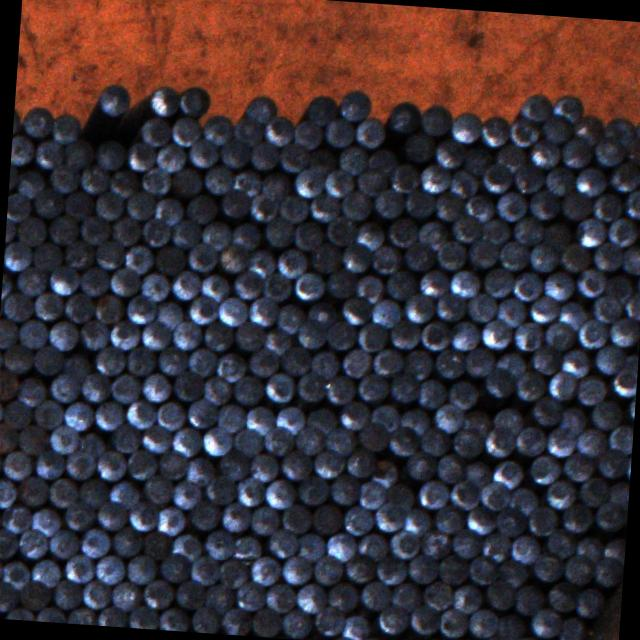tool: (534, 208, 588, 256), (418, 100, 452, 136), (202, 318, 238, 352), (342, 444, 377, 478), (337, 88, 372, 122), (260, 114, 296, 147), (575, 586, 609, 620), (490, 456, 524, 490), (386, 98, 420, 132), (203, 579, 237, 613), (202, 526, 236, 560), (185, 192, 219, 226), (107, 476, 142, 509), (46, 317, 81, 350), (97, 81, 130, 116), (512, 580, 544, 616), (258, 167, 294, 199), (198, 270, 234, 302), (388, 526, 421, 560), (526, 502, 559, 536), (215, 448, 248, 482), (214, 349, 247, 383), (590, 398, 624, 431), (110, 524, 144, 557), (94, 448, 128, 481), (139, 422, 173, 455), (168, 267, 202, 300), (21, 104, 54, 138), (147, 82, 180, 116), (262, 476, 297, 508), (369, 242, 404, 274), (386, 162, 421, 194), (573, 164, 608, 196), (560, 344, 593, 377), (480, 316, 513, 349), (262, 214, 295, 247), (247, 190, 280, 223), (200, 112, 233, 145), (606, 214, 639, 247), (111, 578, 144, 611), (158, 550, 191, 583), (95, 499, 128, 532), (125, 446, 158, 479), (0, 397, 33, 430), (17, 373, 50, 406), (200, 372, 233, 405), (108, 317, 141, 350), (200, 218, 233, 251), (170, 165, 203, 198), (376, 552, 408, 586), (311, 502, 343, 536), (593, 500, 627, 532), (329, 472, 361, 506), (530, 394, 562, 428), (263, 371, 297, 403), (296, 370, 328, 404), (416, 376, 450, 408), (401, 347, 435, 379), (576, 316, 610, 348), (482, 264, 514, 298), (276, 246, 310, 278), (402, 240, 436, 272), (434, 238, 468, 270), (418, 218, 452, 250), (590, 190, 624, 222), (218, 136, 252, 168), (304, 92, 338, 124), (450, 110, 482, 144), (608, 314, 640, 348), (78, 526, 112, 558), (187, 498, 221, 530), (204, 474, 238, 506), (184, 454, 218, 486), (19, 422, 51, 456), (170, 424, 202, 458), (188, 396, 220, 430), (156, 344, 190, 376), (80, 263, 112, 297), (138, 268, 170, 302), (46, 214, 80, 246), (168, 217, 202, 249), (92, 138, 126, 170), (294, 474, 330, 504), (242, 93, 278, 123), (311, 604, 344, 636), (561, 500, 594, 532), (448, 478, 481, 510), (509, 484, 542, 516), (312, 446, 344, 479), (357, 420, 390, 452), (418, 424, 451, 456), (432, 401, 464, 434), (232, 372, 264, 405), (576, 372, 608, 405), (247, 345, 280, 377), (279, 344, 312, 376), (448, 266, 481, 298), (309, 240, 342, 272), (498, 238, 530, 271), (558, 240, 591, 272), (574, 215, 607, 247), (559, 188, 592, 220), (354, 115, 386, 148), (571, 112, 603, 145), (19, 578, 51, 611), (142, 576, 175, 608), (173, 578, 206, 610), (125, 552, 158, 584), (170, 530, 203, 562), (170, 476, 202, 509), (0, 447, 33, 479), (156, 447, 188, 480), (33, 397, 65, 430), (94, 398, 126, 431), (80, 369, 112, 402), (110, 371, 142, 404), (140, 371, 172, 404), (92, 344, 125, 376), (186, 240, 219, 272), (15, 214, 48, 246), (109, 214, 142, 246), (293, 582, 327, 613), (509, 533, 543, 564), (482, 366, 516, 397), (339, 189, 373, 220), (46, 476, 80, 507), (124, 398, 158, 429), (140, 215, 171, 249), (401, 130, 436, 160), (250, 604, 282, 636), (326, 580, 358, 612), (359, 578, 391, 610), (310, 554, 342, 586), (356, 530, 388, 562), (404, 449, 436, 481), (388, 424, 420, 456), (530, 343, 562, 375), (388, 318, 420, 350), (434, 290, 466, 322), (495, 296, 527, 328), (558, 298, 590, 330), (543, 268, 575, 300), (293, 219, 325, 251), (434, 136, 466, 168), (560, 136, 592, 168), (80, 578, 112, 610), (63, 552, 95, 584), (188, 554, 220, 586), (140, 528, 172, 560), (126, 498, 158, 530), (141, 472, 173, 504), (35, 448, 67, 480), (156, 398, 188, 430), (32, 344, 64, 376), (62, 348, 94, 380), (186, 346, 218, 378), (18, 317, 50, 349), (33, 290, 65, 322), (32, 240, 64, 272), (63, 238, 95, 270), (154, 243, 186, 275), (15, 166, 47, 198), (108, 166, 140, 198), (170, 114, 202, 146), (178, 84, 210, 116), (561, 554, 594, 585), (561, 451, 594, 482), (447, 319, 480, 350), (369, 296, 402, 327), (465, 291, 498, 322), (325, 215, 358, 246), (519, 91, 552, 122), (30, 506, 63, 537), (200, 424, 233, 455), (376, 604, 410, 634), (389, 580, 423, 610), (278, 554, 312, 584), (266, 526, 300, 556), (433, 504, 467, 534), (490, 406, 524, 436), (355, 372, 389, 402), (293, 270, 327, 300), (324, 268, 358, 298), (527, 138, 561, 168), (603, 114, 637, 144), (94, 292, 128, 322), (14, 266, 48, 296), (48, 264, 82, 294), (31, 188, 65, 218), (421, 579, 453, 610), (248, 554, 280, 585), (416, 477, 448, 508), (247, 451, 279, 482), (280, 448, 312, 479), (230, 426, 262, 457), (324, 424, 356, 455), (452, 426, 484, 457), (325, 319, 357, 350), (356, 321, 388, 352), (542, 319, 574, 350), (402, 292, 434, 323), (512, 270, 544, 301), (340, 240, 371, 272), (372, 186, 404, 217), (528, 188, 560, 219), (230, 165, 262, 196), (322, 116, 354, 147), (479, 114, 510, 146), (542, 111, 574, 142), (592, 292, 624, 323), (94, 553, 125, 585), (157, 502, 188, 534), (17, 474, 48, 506), (64, 399, 96, 430), (125, 344, 156, 376), (78, 318, 110, 349), (126, 292, 157, 324), (188, 293, 220, 324), (124, 242, 155, 274), (79, 213, 111, 244), (94, 189, 125, 221), (51, 112, 82, 144), (140, 115, 172, 146), (233, 580, 266, 610), (436, 553, 469, 583), (446, 378, 479, 408), (29, 558, 62, 588), (63, 500, 96, 530), (1, 342, 34, 372), (1, 291, 34, 321), (154, 142, 187, 172), (187, 136, 220, 166), (478, 217, 512, 246), (304, 406, 339, 434), (494, 348, 530, 375), (451, 582, 482, 613), (407, 551, 438, 582), (372, 500, 403, 531), (294, 424, 325, 455), (261, 323, 292, 354), (419, 319, 450, 350), (217, 295, 248, 326), (276, 301, 307, 332), (528, 241, 559, 272), (357, 166, 388, 197), (591, 240, 622, 271), (78, 477, 109, 508), (65, 448, 96, 479), (172, 319, 203, 350), (124, 140, 155, 171), (280, 608, 312, 638), (438, 606, 468, 638), (344, 552, 376, 582), (469, 552, 499, 584), (532, 551, 562, 583), (543, 526, 575, 556), (280, 502, 312, 532), (342, 504, 374, 534), (261, 426, 293, 456), (513, 424, 545, 454), (546, 424, 576, 456), (274, 404, 306, 434), (558, 403, 588, 435), (325, 372, 355, 404), (546, 370, 578, 400), (372, 346, 404, 376), (246, 296, 278, 326), (234, 268, 264, 300), (384, 268, 416, 298), (230, 220, 262, 250), (512, 216, 544, 246), (218, 186, 250, 216), (512, 162, 544, 192), (276, 142, 308, 172), (305, 146, 337, 176), (494, 142, 526, 172), (594, 134, 624, 166), (232, 116, 262, 148), (292, 117, 322, 149), (48, 528, 80, 558), (76, 426, 108, 456), (109, 422, 141, 452), (49, 372, 81, 402), (140, 318, 172, 348), (64, 292, 96, 322), (154, 298, 186, 328), (2, 240, 32, 272), (63, 190, 95, 220), (203, 162, 233, 194), (436, 450, 465, 483), (463, 192, 497, 220), (126, 602, 160, 630), (220, 606, 251, 636), (468, 607, 498, 638), (263, 582, 294, 612), (484, 579, 514, 610), (296, 530, 326, 561), (450, 527, 480, 558), (466, 503, 496, 534), (496, 506, 527, 536), (358, 478, 388, 509), (480, 480, 510, 511), (529, 454, 560, 484), (597, 446, 628, 476), (484, 426, 515, 456), (369, 401, 400, 431), (515, 370, 546, 400), (310, 350, 341, 380), (436, 346, 466, 377), (306, 298, 337, 328), (575, 266, 606, 296), (468, 237, 498, 268), (388, 216, 418, 247), (277, 192, 308, 222), (308, 192, 339, 222), (497, 190, 528, 220), (482, 162, 512, 193), (609, 160, 640, 190), (552, 92, 583, 122), (605, 270, 636, 300), (52, 578, 82, 609), (17, 528, 48, 558), (172, 369, 202, 400), (94, 240, 125, 270), (125, 189, 155, 220), (49, 162, 80, 192), (142, 163, 172, 194), (33, 138, 64, 168), (63, 138, 94, 168), (400, 405, 432, 434), (528, 294, 560, 323), (190, 605, 222, 634), (403, 188, 436, 216), (366, 145, 399, 173), (410, 603, 440, 633), (530, 607, 560, 637), (548, 580, 578, 610), (594, 556, 624, 586), (480, 532, 510, 562), (546, 478, 576, 508), (578, 476, 608, 506), (245, 404, 275, 434), (340, 399, 370, 429), (342, 348, 372, 378), (464, 346, 494, 376), (513, 320, 543, 350), (218, 240, 248, 270), (246, 245, 276, 275), (450, 212, 480, 242), (434, 190, 464, 220), (322, 168, 352, 198), (418, 162, 448, 192), (448, 166, 478, 196), (508, 116, 538, 146), (594, 344, 624, 374), (49, 423, 79, 453), (110, 266, 140, 296), (339, 611, 370, 640), (217, 558, 248, 587), (498, 558, 529, 587), (220, 501, 249, 532), (248, 504, 279, 533), (389, 371, 418, 402), (235, 319, 264, 350), (418, 268, 449, 297), (354, 219, 385, 248), (463, 144, 492, 175), (1, 503, 32, 532), (324, 530, 356, 558), (292, 168, 324, 196), (543, 164, 575, 192), (158, 604, 190, 632), (372, 455, 398, 489), (234, 532, 263, 562), (420, 529, 450, 558), (296, 318, 326, 347), (340, 294, 370, 323), (262, 271, 291, 301), (338, 145, 368, 174), (1, 558, 30, 588), (496, 612, 527, 640), (216, 401, 244, 432), (403, 505, 432, 534), (154, 194, 183, 223), (236, 475, 264, 505), (576, 426, 606, 454), (606, 423, 634, 453), (356, 272, 384, 302), (250, 139, 278, 169), (80, 164, 110, 192), (10, 132, 34, 166), (386, 481, 415, 509), (462, 406, 491, 434), (574, 535, 602, 563), (463, 458, 491, 486), (6, 190, 32, 220), (558, 615, 589, 640), (612, 368, 638, 397), (98, 604, 128, 628), (620, 240, 640, 274), (602, 536, 626, 564), (608, 478, 630, 508), (0, 579, 20, 612), (0, 420, 20, 453), (68, 604, 98, 625), (0, 317, 19, 349), (36, 605, 68, 623), (0, 476, 18, 508), (0, 527, 17, 560), (0, 369, 18, 399), (4, 605, 36, 621), (624, 188, 640, 219), (624, 135, 640, 165), (624, 289, 640, 319), (622, 349, 639, 375), (1, 272, 12, 296), (484, 632, 514, 640), (515, 634, 542, 640), (636, 114, 640, 143)
